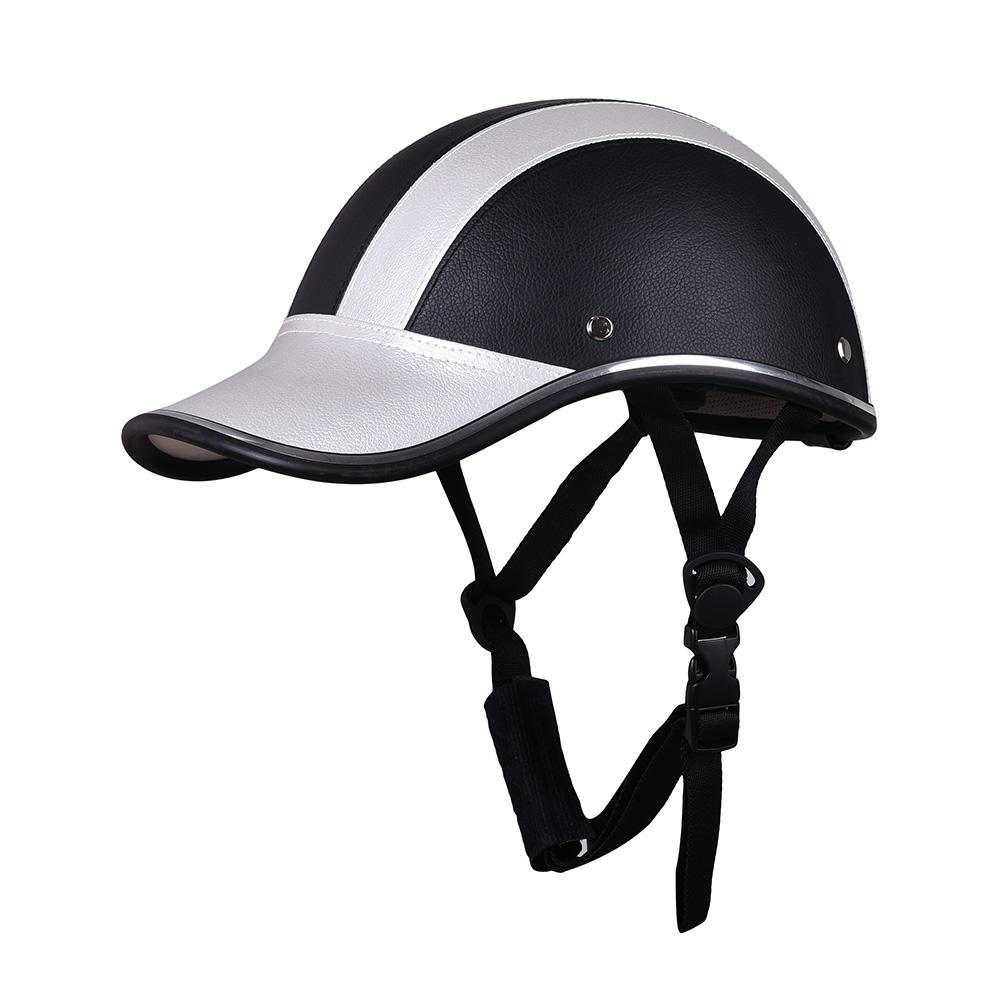helmet: (121, 88, 884, 530)
